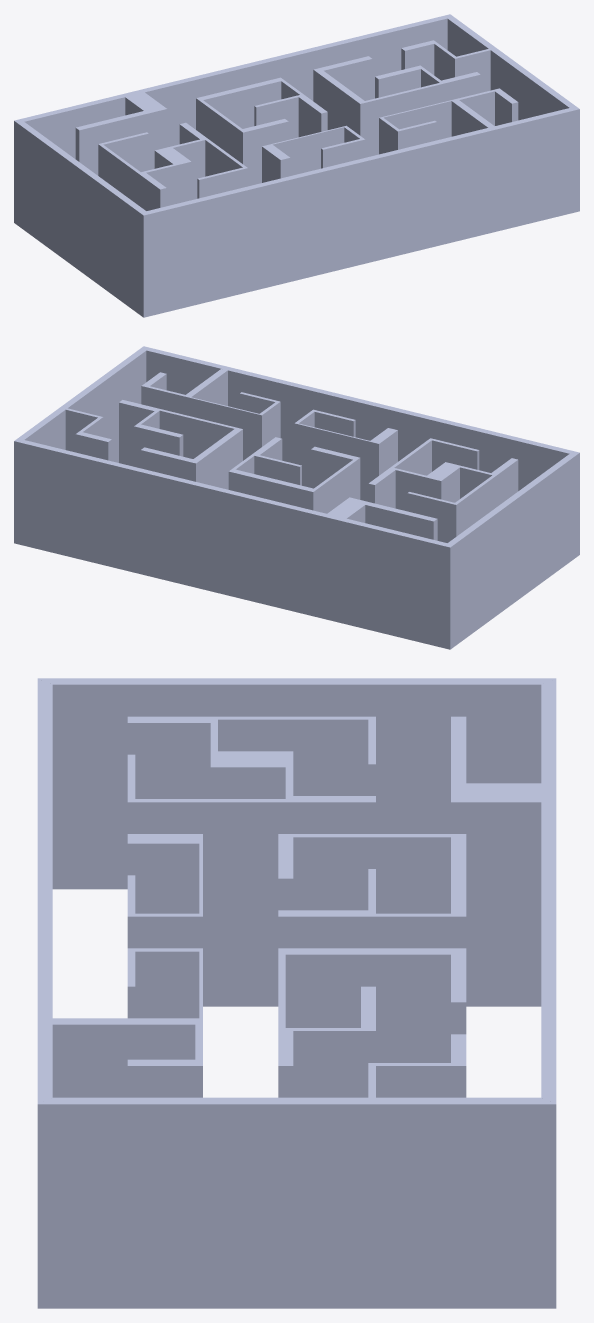
Rendered from Maze 2.1 V2 FBX.fbx.
The picture shows the model from 3 angles, top to bottom: view 1: azimuth 30°, elevation 25°; view 2: azimuth 150°, elevation 25°; view 3: azimuth 270°, elevation 25°; orthographic projection. The views are drawn at different scales.
Parts seen in each view (by area): view 1: color; view 2: color; view 3: color.
Part boxes in pixels (x1=…): color: x1=14, y1=14, x2=579, y2=317; color: x1=14, y1=346, x2=579, y2=649; color: x1=37, y1=678, x2=556, y2=1308.
Size of the model in its own units: 1340 by 300 by 690.
